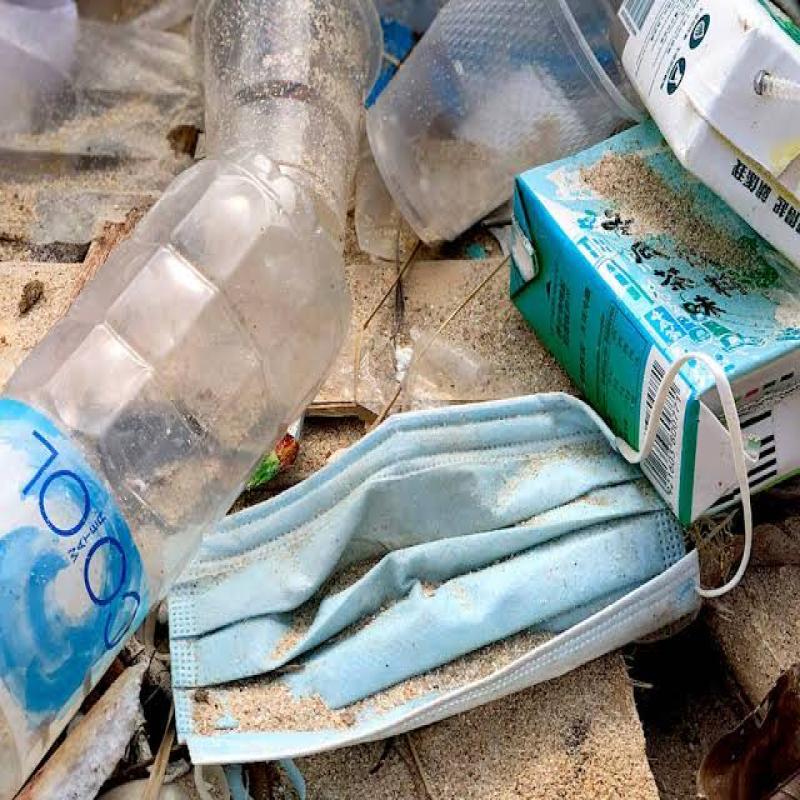facemask: (166, 355, 752, 768)
plastic bottle: (0, 139, 354, 800)
uht carton: (509, 118, 800, 528), (614, 0, 800, 268)
